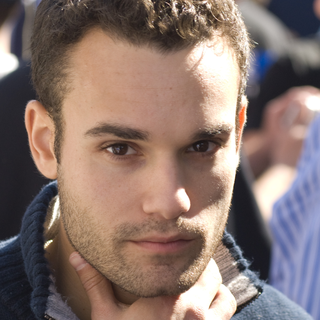eye: (91, 135, 146, 165), (176, 135, 224, 158)
